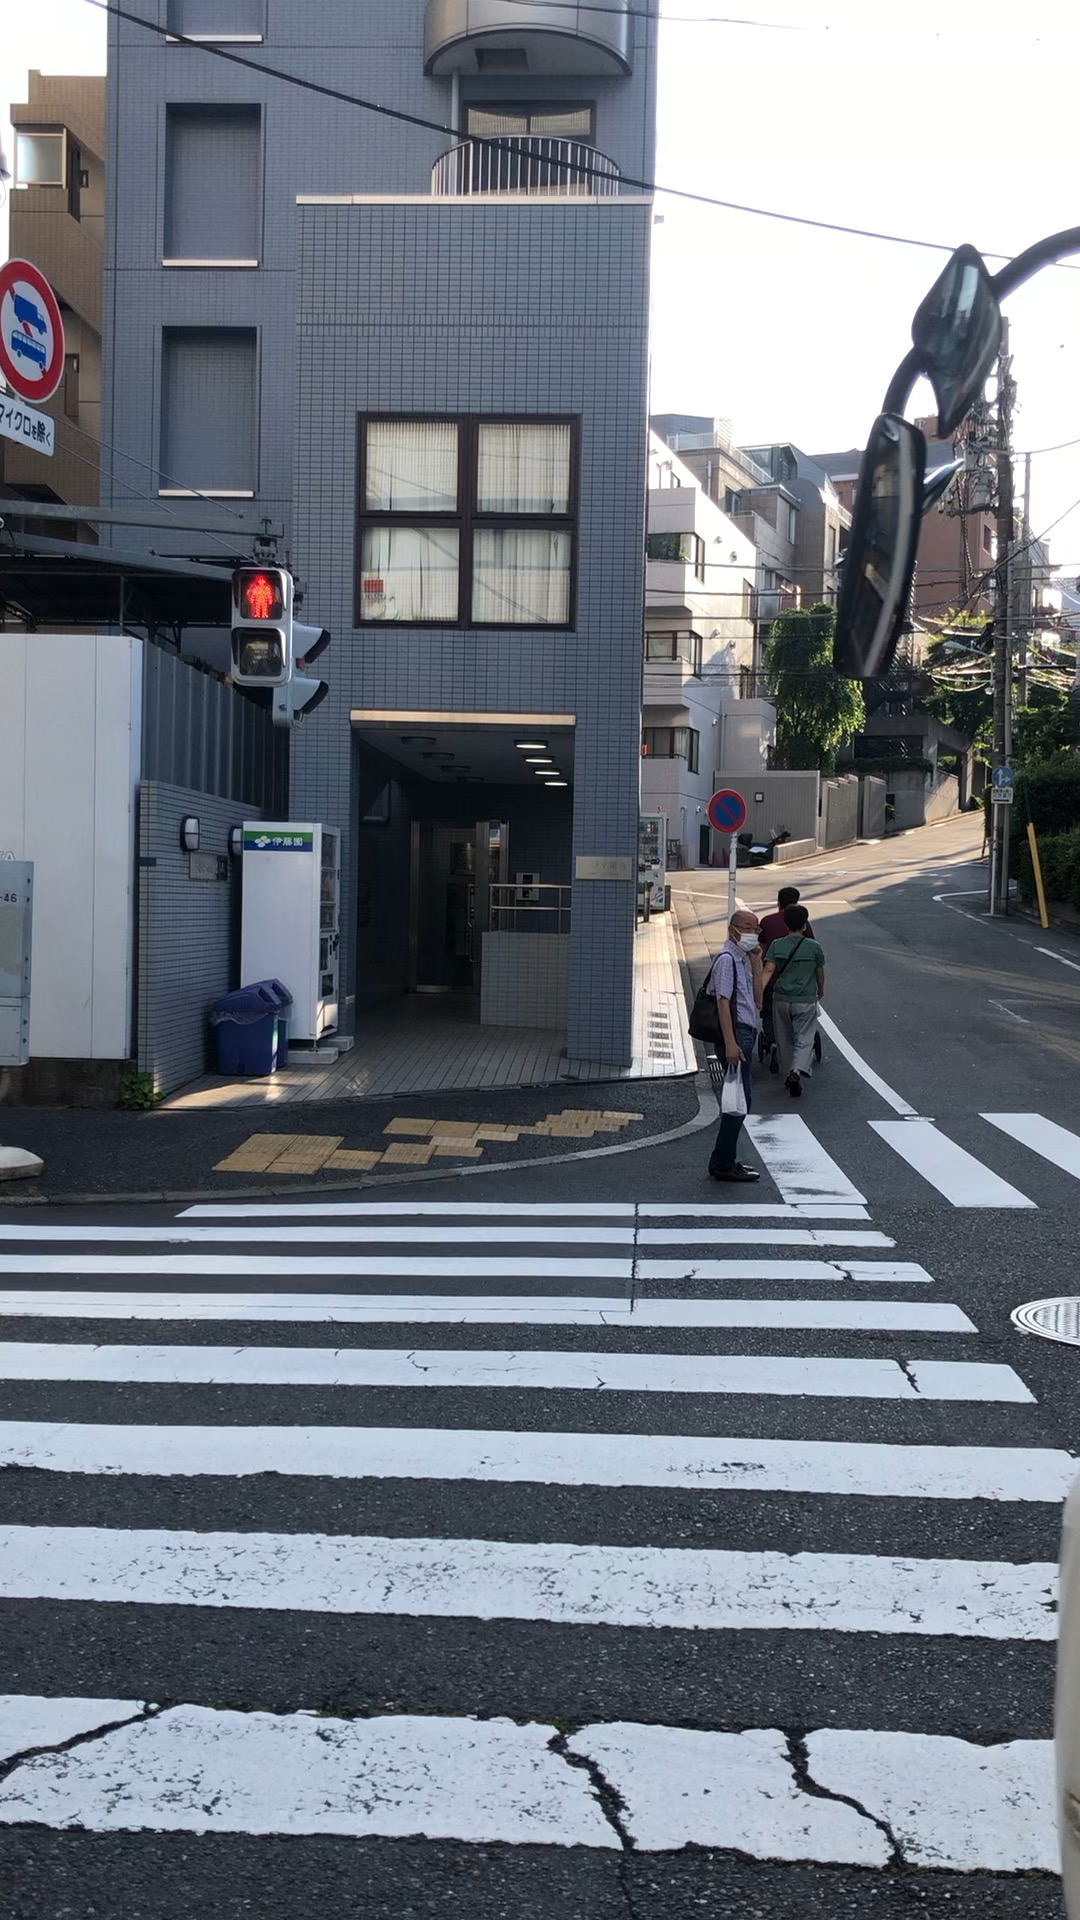red: (227, 564, 295, 687)
